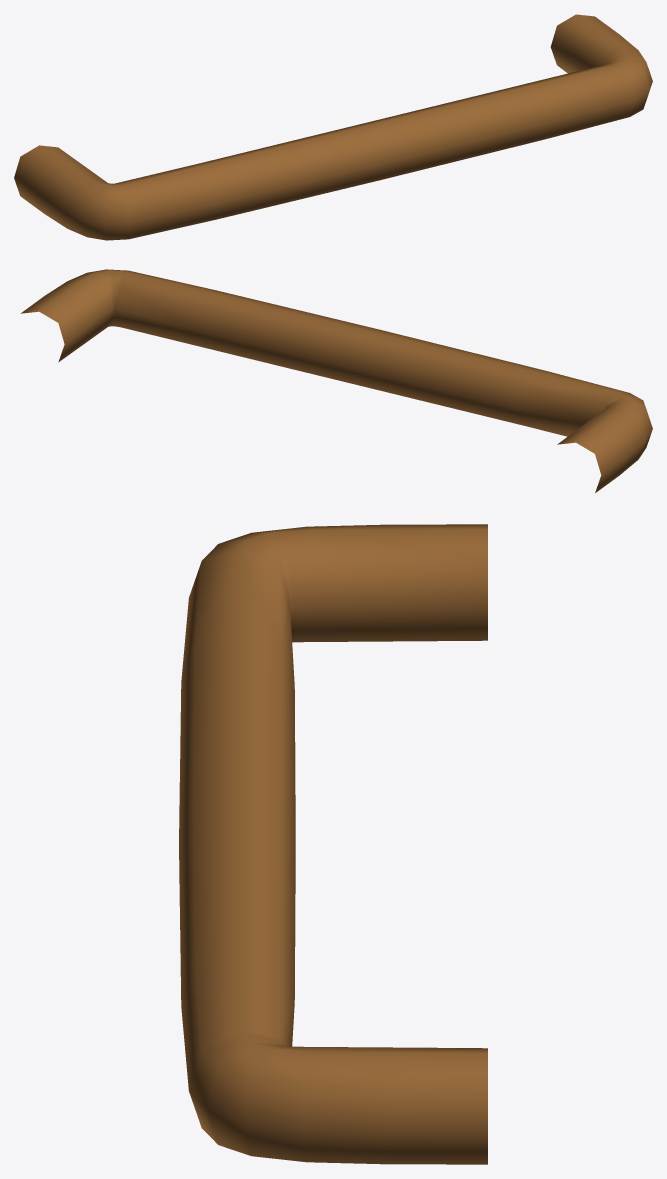
The model's file is n_pipe_1.glb.
The picture shows the model from 3 angles, top to bottom: view 1: azimuth 30°, elevation 25°; view 2: azimuth 150°, elevation 25°; view 3: azimuth 270°, elevation 25°; orthographic projection. The views are drawn at different scales.
Visible parts, largest first — view 1: Pipe_1; view 2: Pipe_1; view 3: Pipe_1.
Boxes of the visible parts, box(x1,y1,x2,y2) form: Pipe_1: box(14, 14, 652, 240); Pipe_1: box(21, 269, 652, 492); Pipe_1: box(179, 524, 487, 1164).
Size of the model in its own units: 2.44 by 0.2122 by 0.5562.
